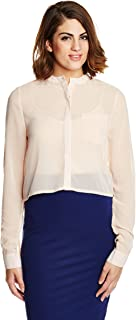shirt: (1, 75, 135, 201)
